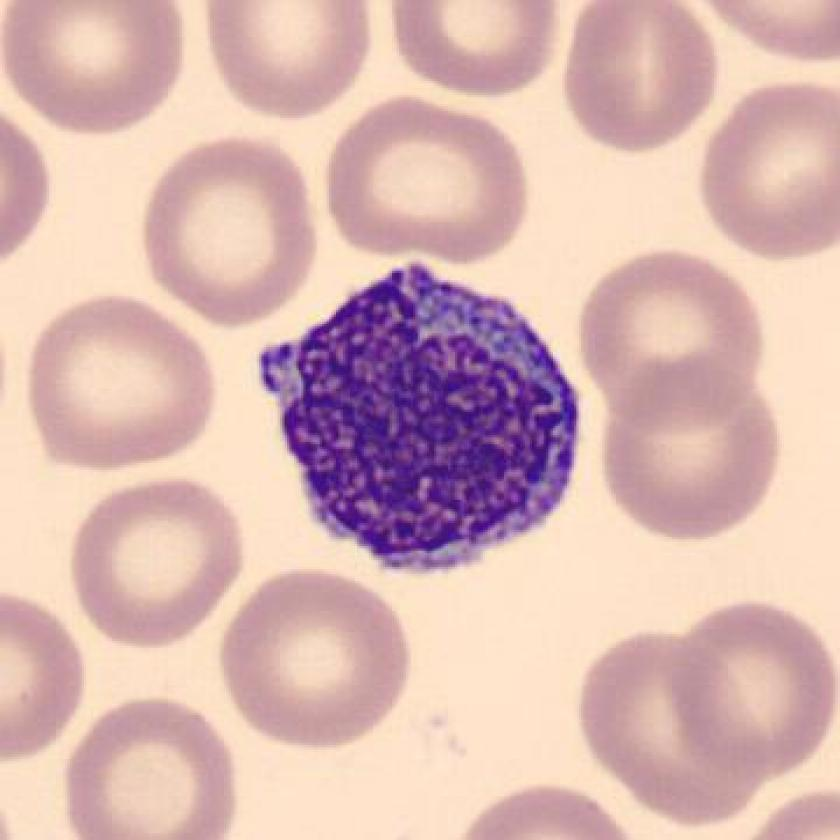monocyte: (239, 244, 617, 603)
